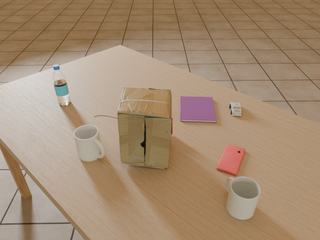book: (181, 96, 216, 123)
bottle: (53, 64, 71, 105)
box: (117, 87, 172, 169)
cup: (226, 177, 260, 220), (74, 125, 105, 161)
phone: (217, 144, 245, 175)
toy_car: (229, 102, 242, 116)
